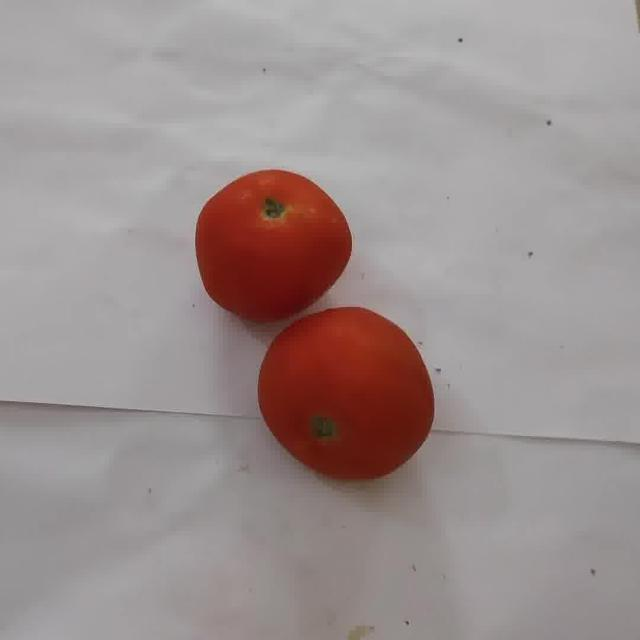Tomato: (258, 308, 434, 480), (196, 169, 352, 322)
